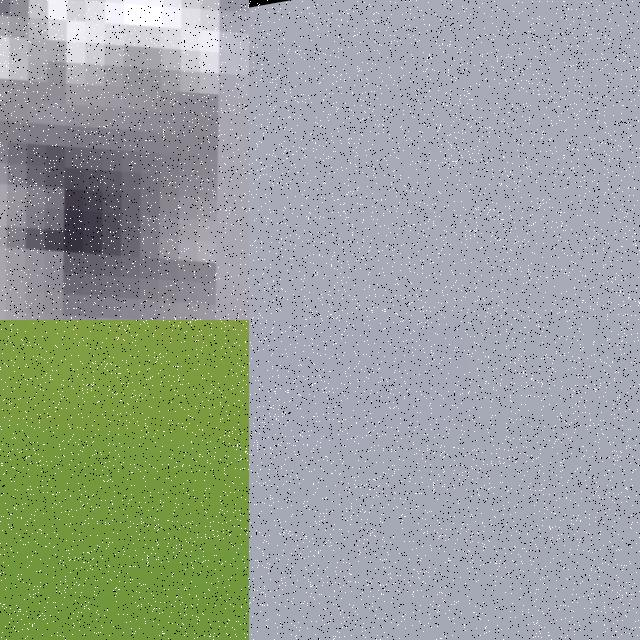0: (0, 0, 249, 320)
drone: (0, 320, 249, 640)
